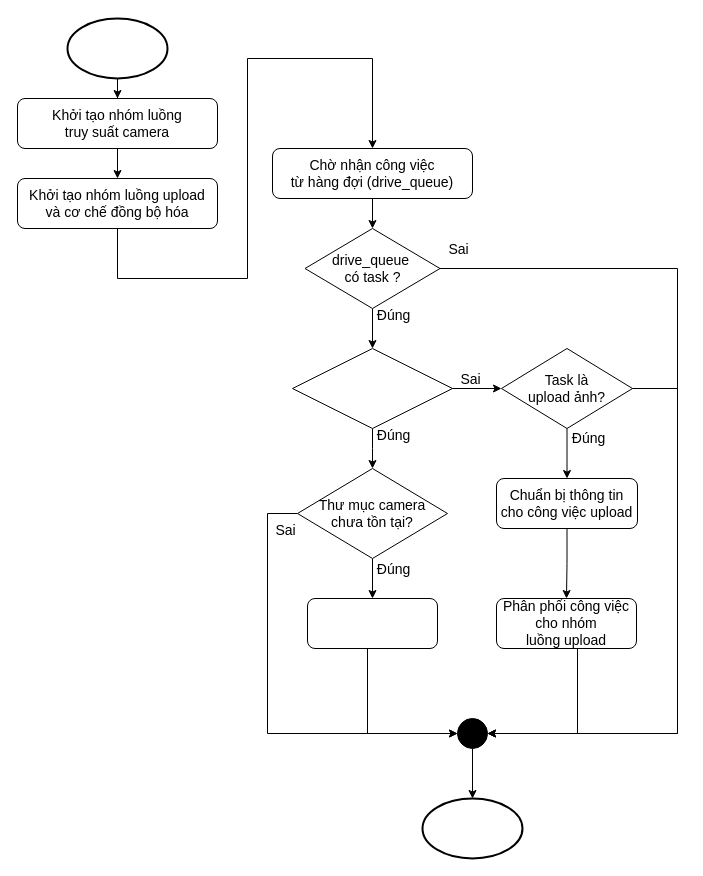
Image size: 703x876. Some labels were removed from this diagram. Each missing label, with the centre of its shape:
"Bắt đầu" goes at pixel 117 48.
"Kết thúc" goes at pixel 472 828.
"Task là tạo thư mục ?" goes at pixel 372 388.
"Tạo thư mục camera trên Google Drive" goes at pixel 372 623.
